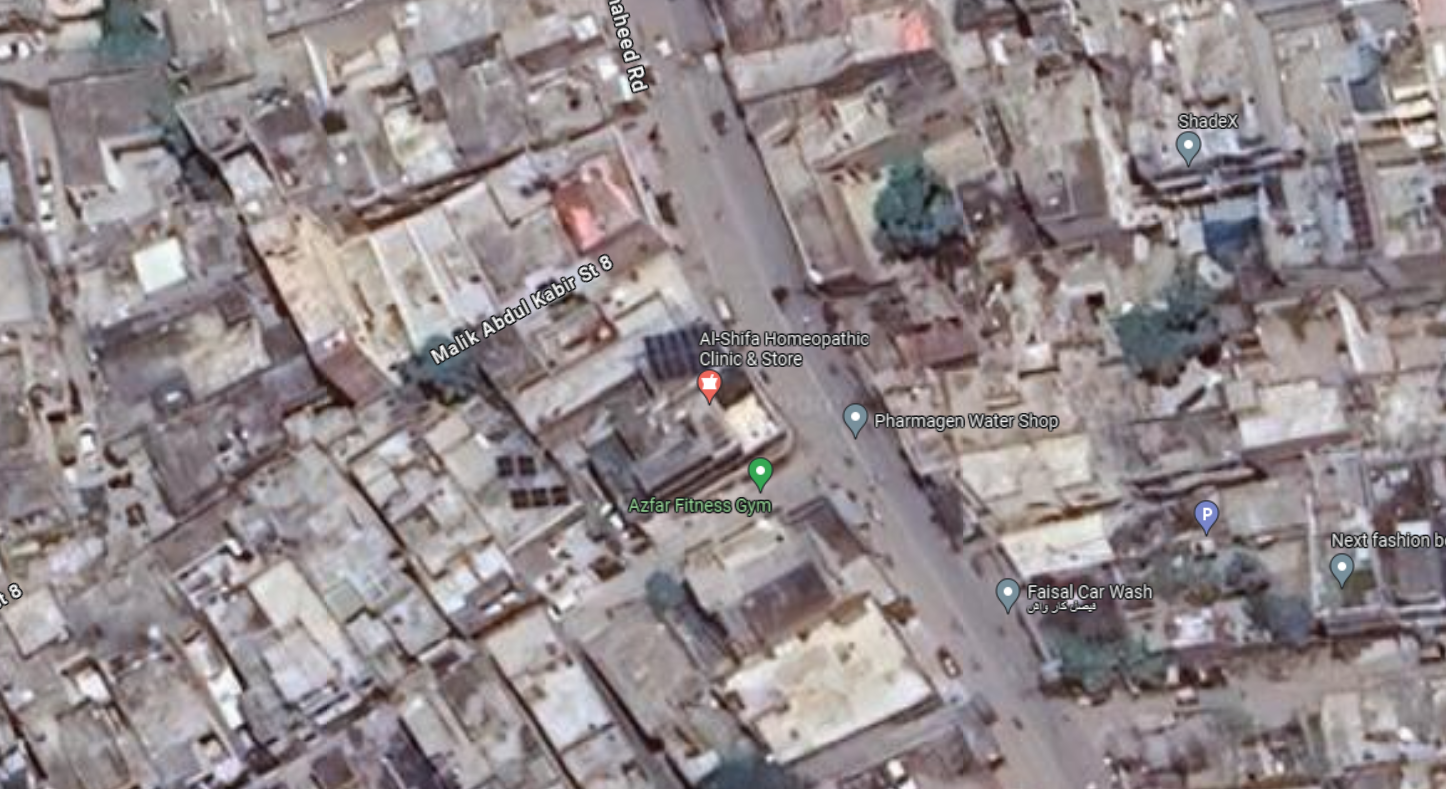solar-panel: (491, 447, 583, 510), (636, 335, 739, 377)
